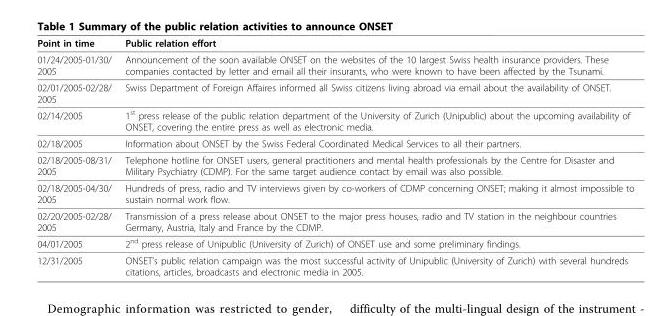table: (36, 36, 633, 277)
table column: (117, 36, 633, 277), (36, 36, 117, 277)
table column header: (36, 36, 633, 50)
table row: (36, 50, 633, 78), (36, 78, 633, 106), (36, 106, 633, 134), (36, 151, 633, 179), (36, 179, 633, 207), (36, 207, 633, 234), (36, 251, 633, 277), (36, 134, 633, 151), (36, 234, 633, 251), (36, 36, 633, 50)
